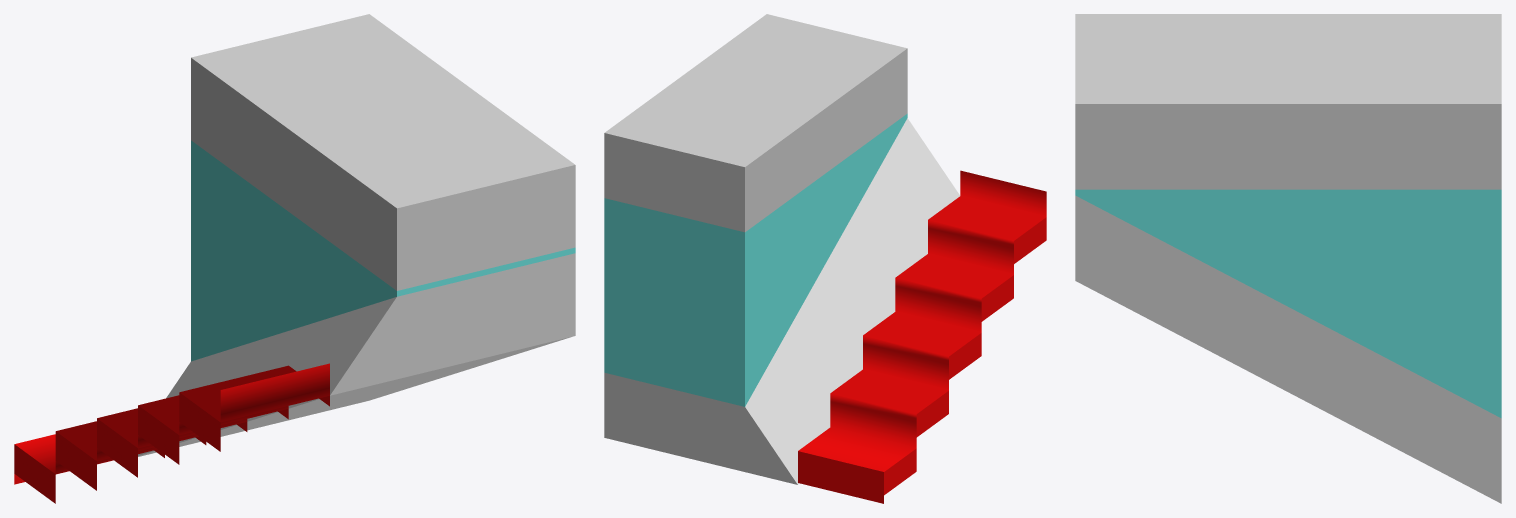
Rendered from Wall-LowToBase.fbx.
3 renders of one model, left to right at view 1: azimuth 30°, elevation 25°; view 2: azimuth 150°, elevation 25°; view 3: azimuth 270°, elevation 25°, orthographic. The views are drawn at different scales.
Visible parts, largest first — view 1: LowToBase; view 2: LowToBase; view 3: LowToBase.
Boxes of the visible parts, x1=… form: LowToBase: x1=14, y1=14, x2=575, y2=503; LowToBase: x1=604, y1=14, x2=1046, y2=503; LowToBase: x1=1075, y1=14, x2=1501, y2=503.
Bounding box in the file's own units: 78.28 × 81.49 × 78.74.
